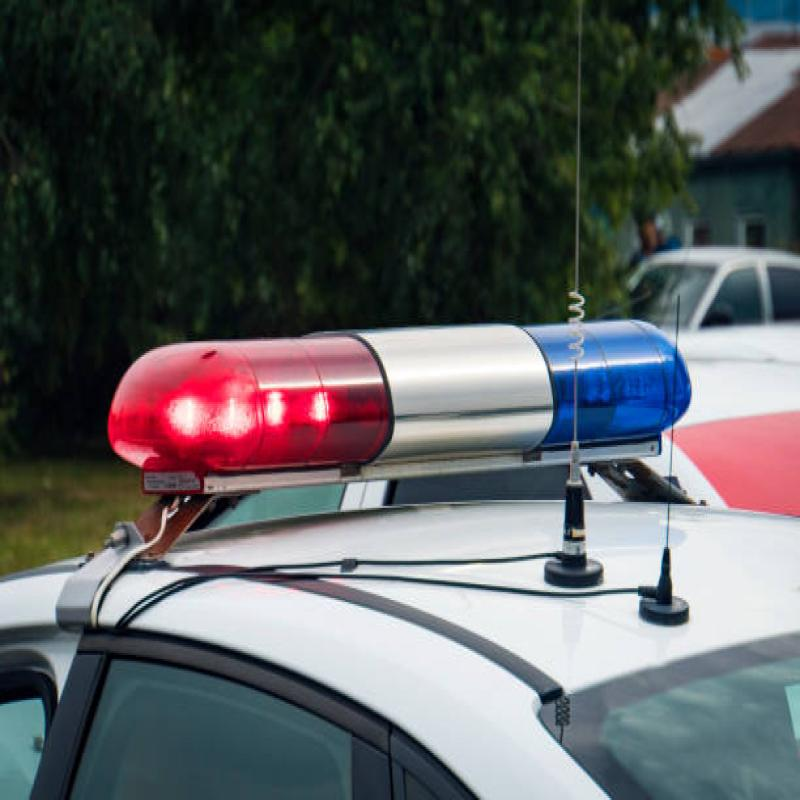AmbulanceSiren: (104, 257, 738, 524)
